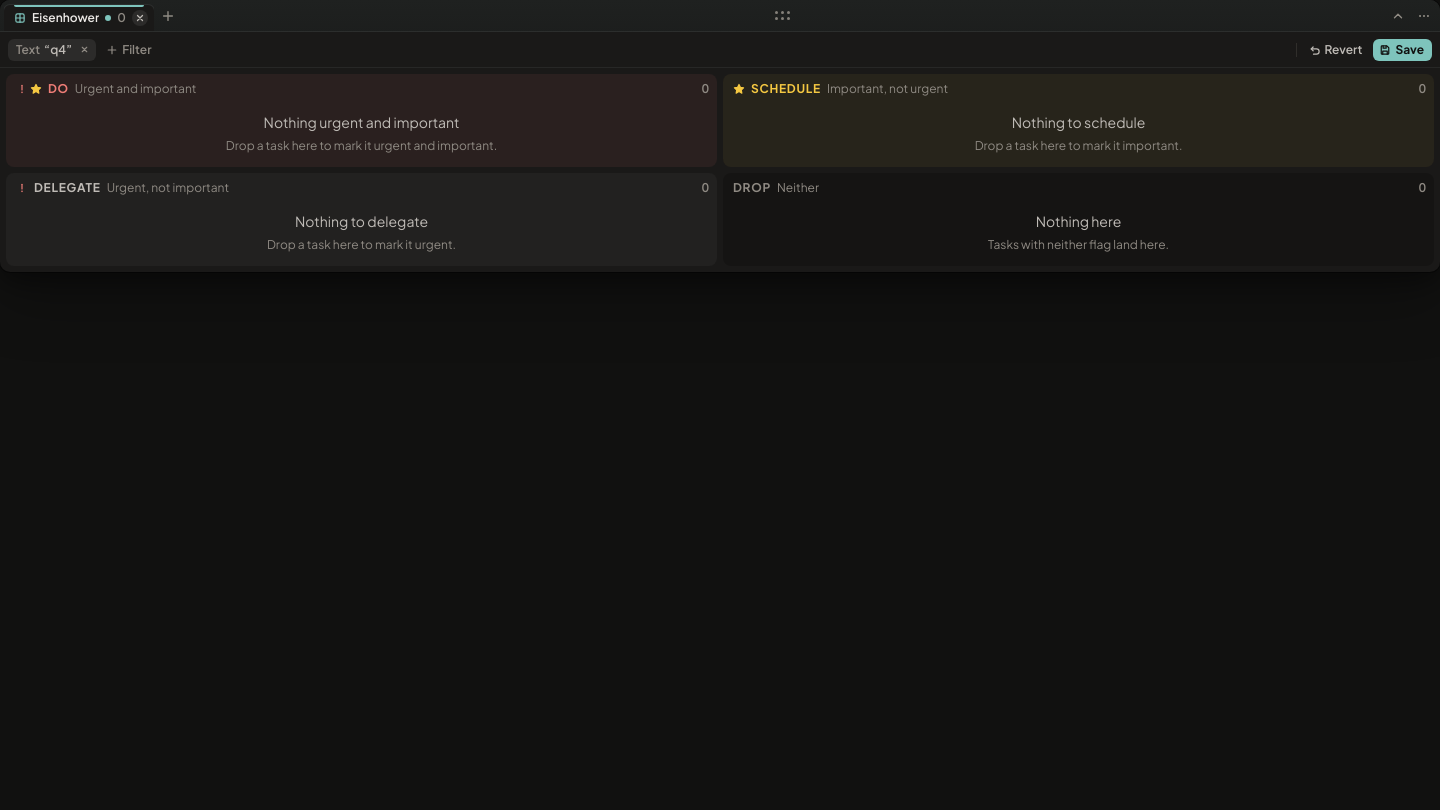
Test case: a layout’s lists in the workspace › an Eisenhower tab switched to List while the Eisenhower’s list is unsaved asks first; Cancel changes nothing
Right-click the tab "Eisenhower 0" at (79, 18), box x1=4 y1=5 x2=154 y2=31
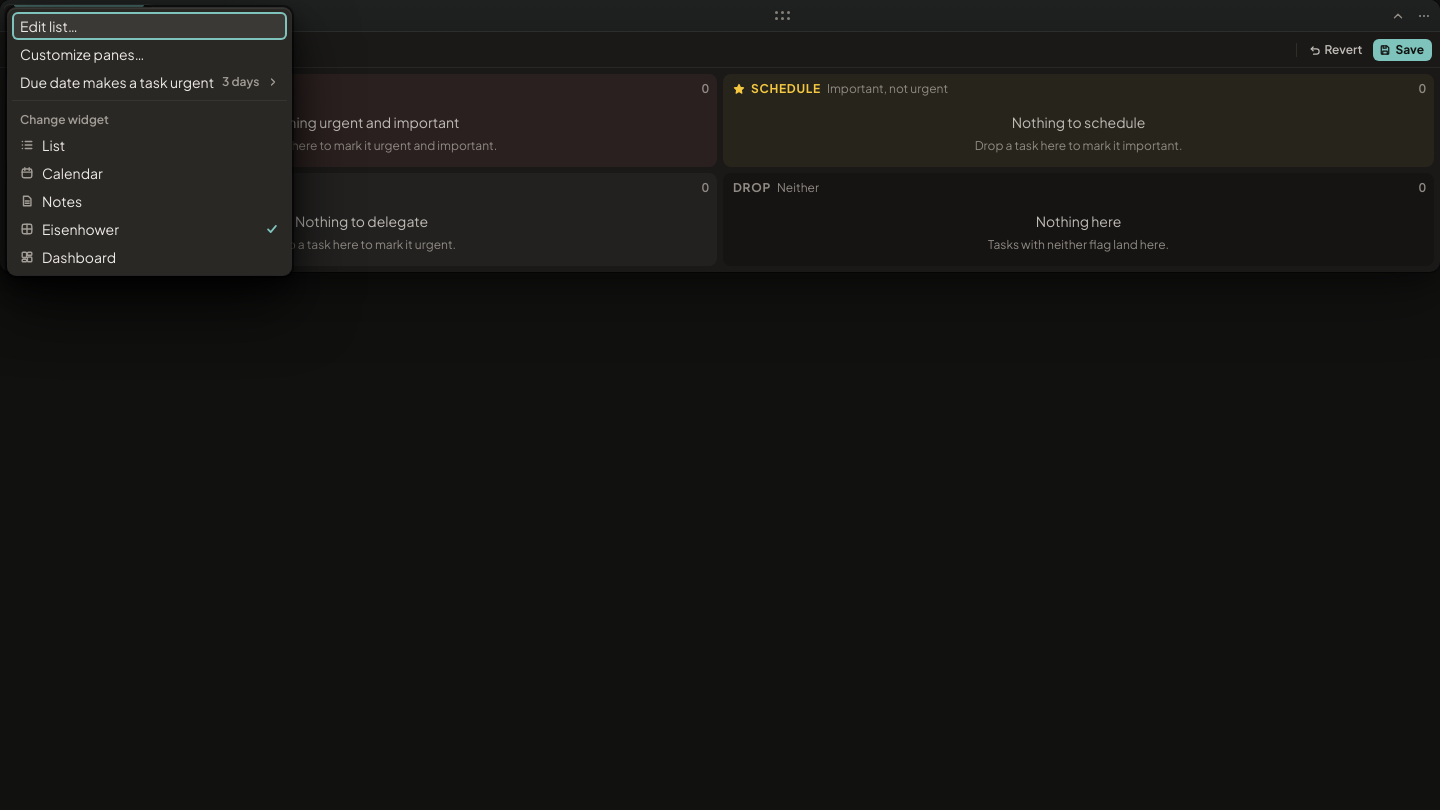
Click the menu item "List" at (27, 145), box x1=12 y1=131 x2=288 y2=159
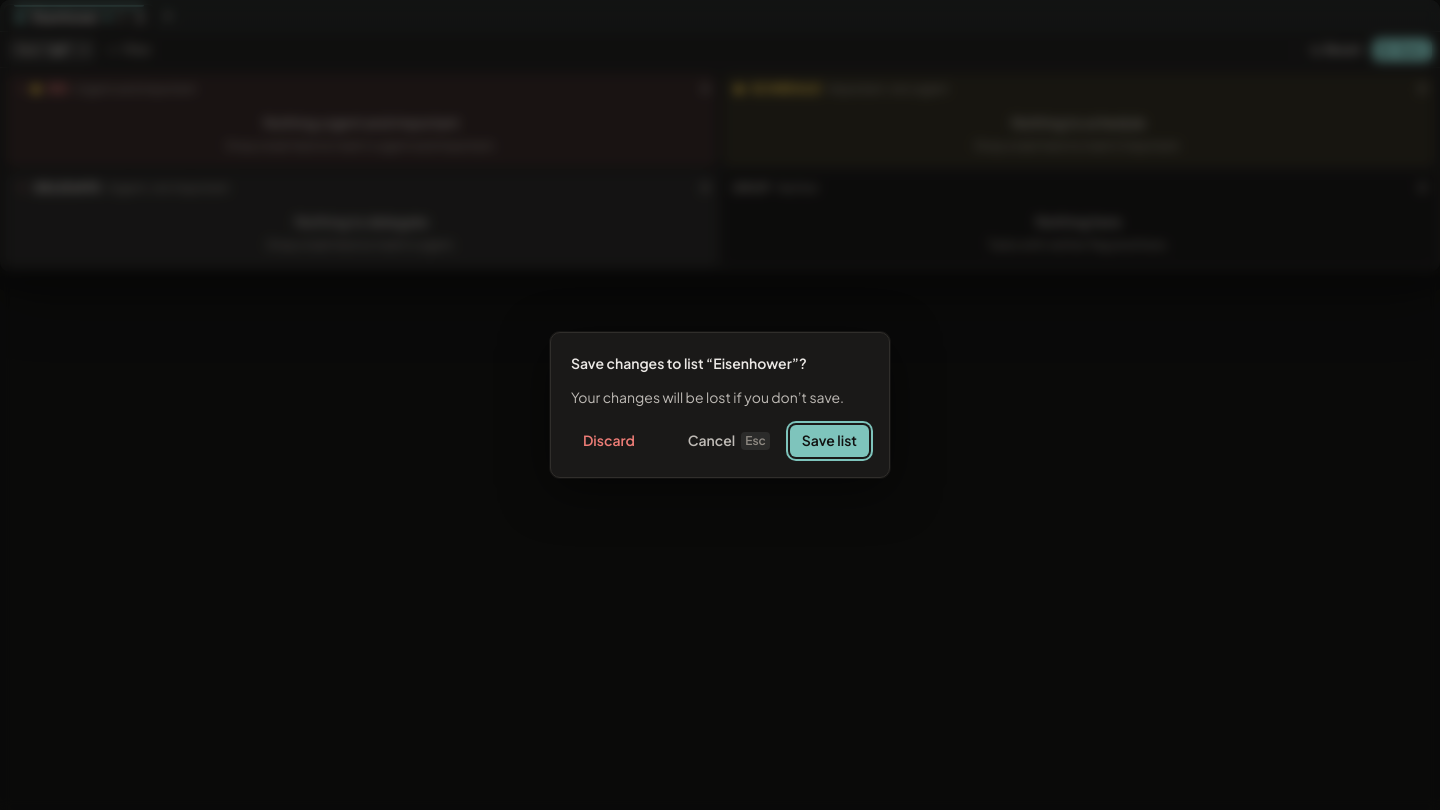
Click the button "Cancel Esc" at (729, 441), box x1=676 y1=425 x2=782 y2=457
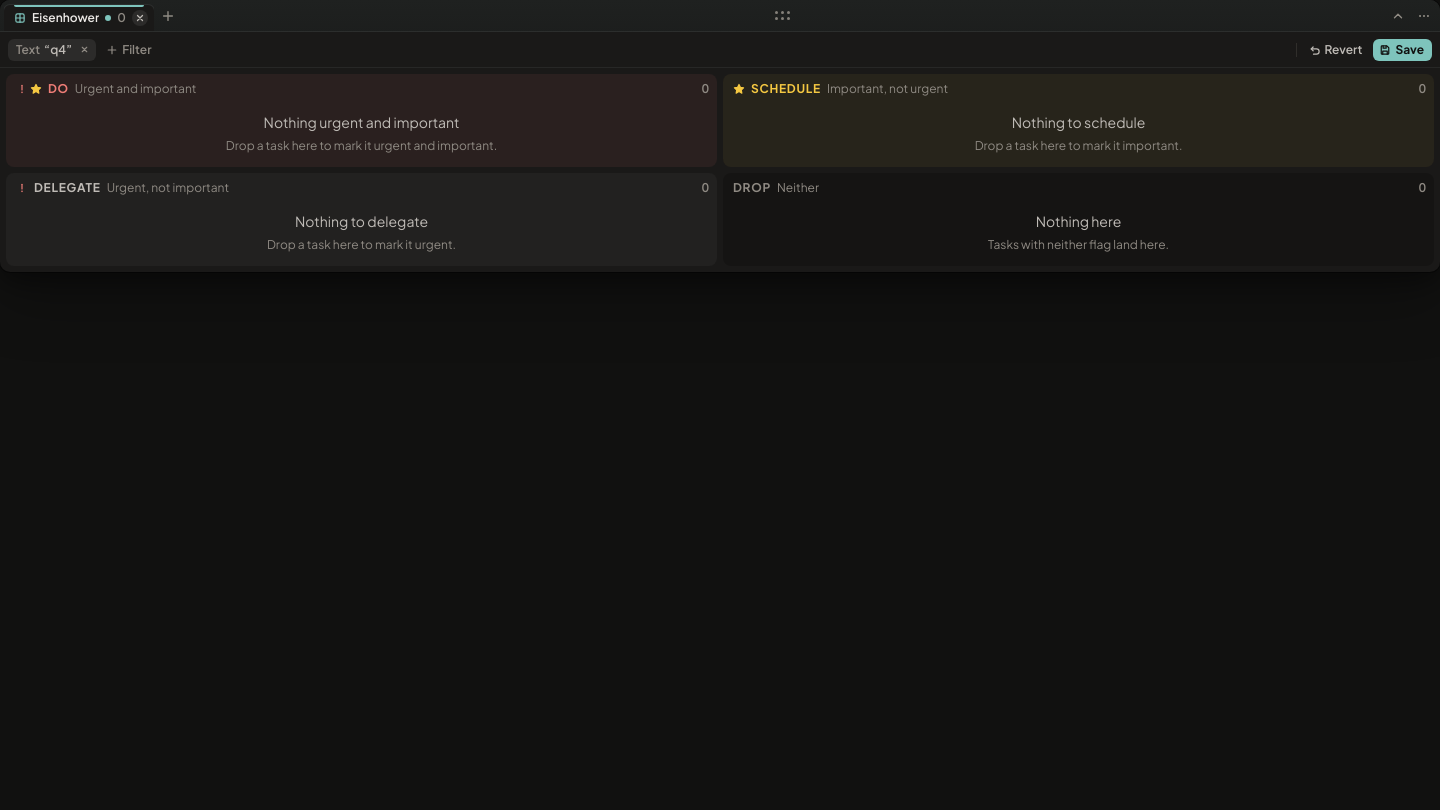
Check: the text "Save changes to list" is gone
